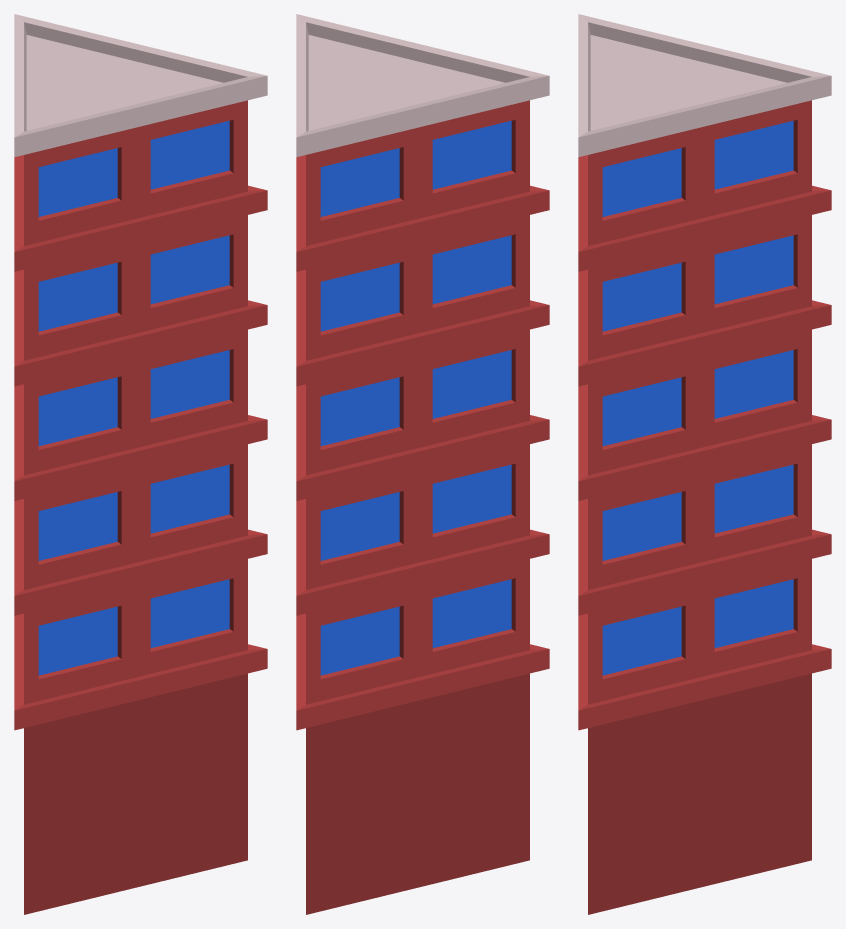
The model's file is house5.fbx.
The picture shows the model from 3 angles, left to right: view 1: azimuth 30°, elevation 25°; view 2: azimuth 150°, elevation 25°; view 3: azimuth 270°, elevation 25°; orthographic projection.
Visible parts, largest first — view 1: building_2_LOD0; view 2: building_2_LOD0; view 3: building_2_LOD0.
Part boxes in pixels (bbox=[...]): building_2_LOD0: bbox=[14, 14, 267, 914]; building_2_LOD0: bbox=[296, 14, 549, 914]; building_2_LOD0: bbox=[578, 14, 831, 914].
Size of what is drawn, in the model's own units: 1571 by 4654 by 1361.
